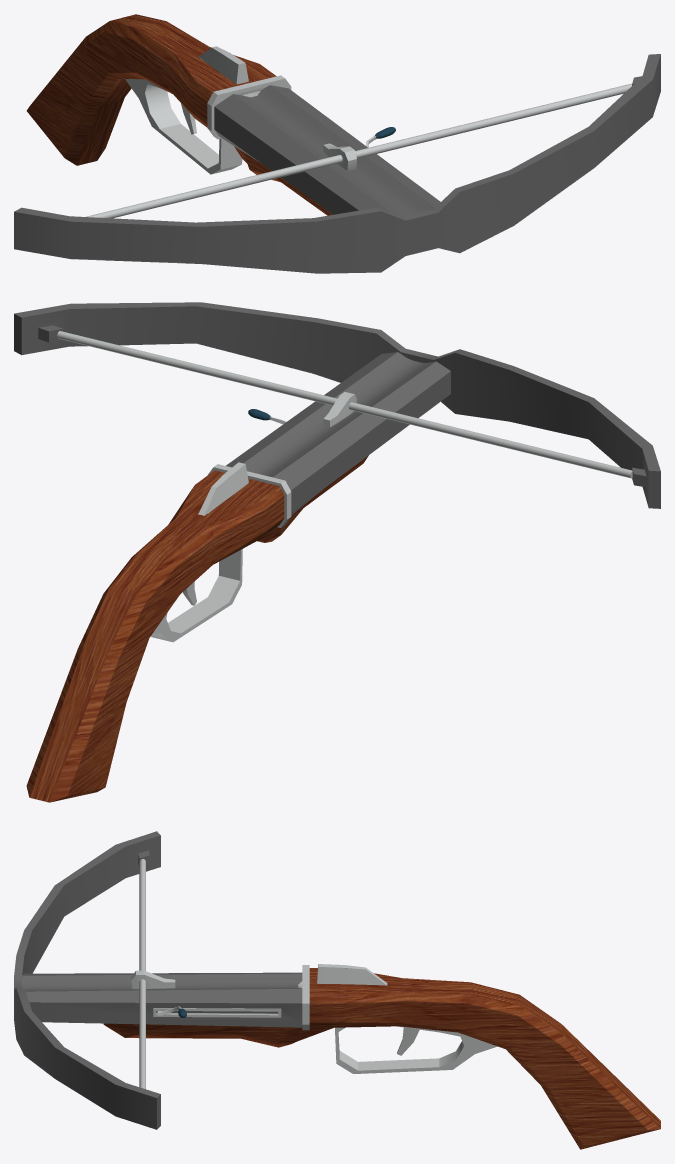
Rendered from crossbow.fbx.
3 views of the same model, one above another, from view 1: azimuth 30°, elevation 25°; view 2: azimuth 150°, elevation 25°; view 3: azimuth 270°, elevation 25° (orthographic). The views are drawn at different scales.
Parts seen in each view (by area): view 1: Crossbow; view 2: Crossbow; view 3: Crossbow.
Part boxes in pixels (x1,y1,x2,y2): Crossbow: [14, 14, 660, 273]; Crossbow: [14, 302, 660, 802]; Crossbow: [14, 831, 660, 1149].
Size of the model in its own units: 143 by 45.22 by 147.
Materials: 1 (1 with a texture image).
